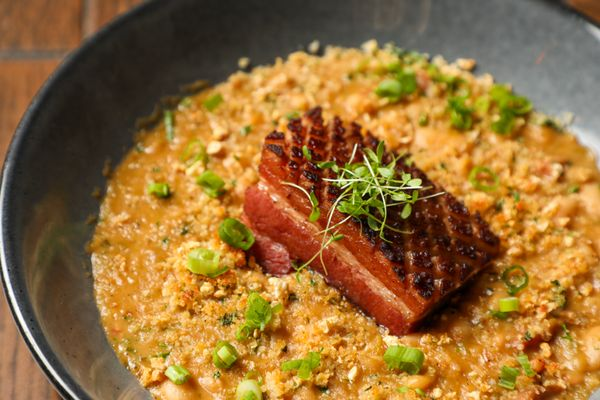sushi: (2, 1, 593, 394)
